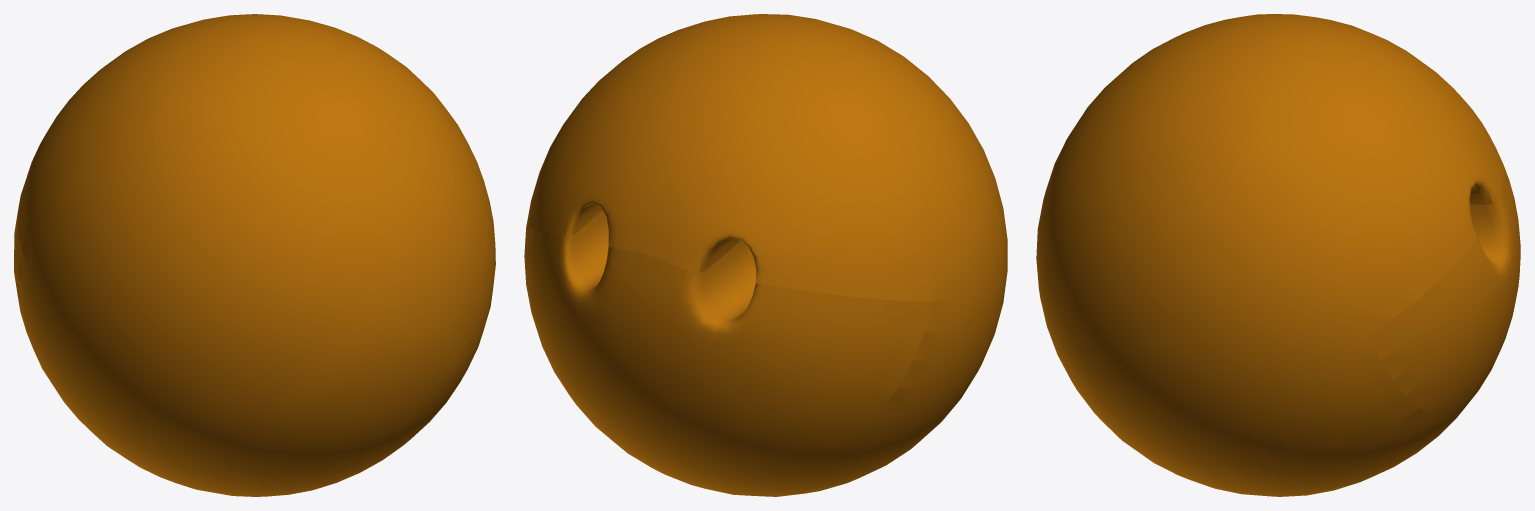
The model's file is nomounth 3DS.fbx.
3 views of the same model, side by side, from view 1: azimuth 30°, elevation 25°; view 2: azimuth 150°, elevation 25°; view 3: azimuth 270°, elevation 25° (orthographic).
Visible parts, largest first — view 1: Group21311; view 2: Group21311; view 3: Group21311.
Part boxes in pixels (box(x1,y1,x2,y2)): Group21311: box(14, 14, 495, 496); Group21311: box(524, 14, 1007, 496); Group21311: box(1036, 14, 1520, 496).
Bounding box in the file's own units: 52.98 × 53.13 × 53.27.
